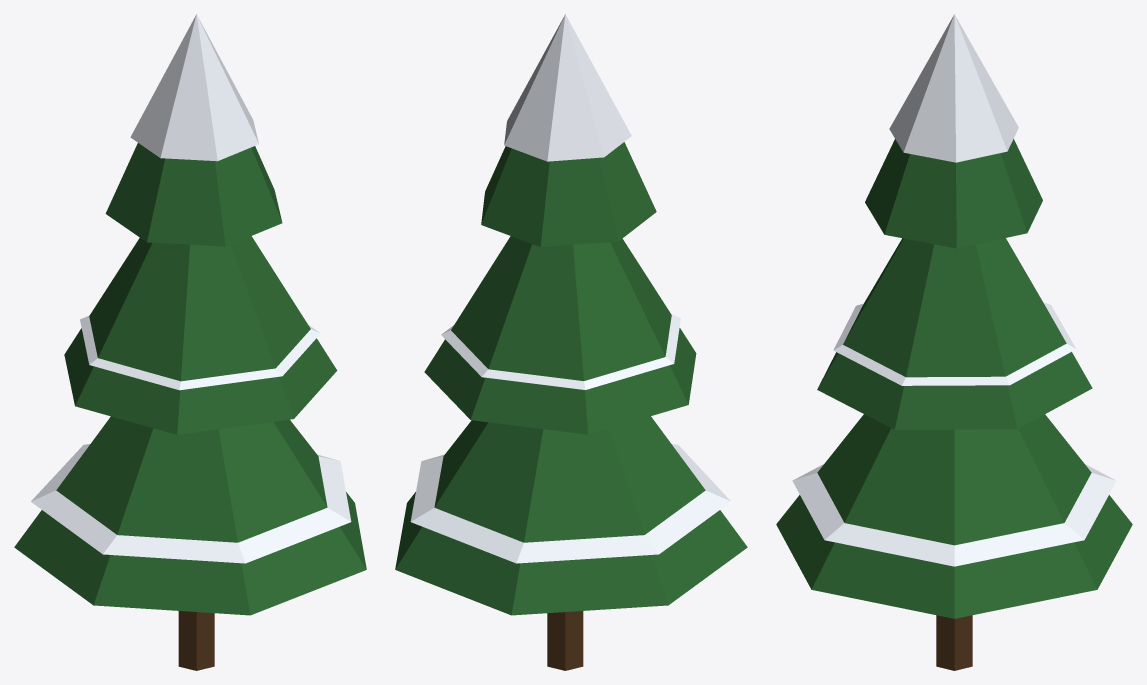
Rendered from pino_nevado.obj.
The picture shows the model from 3 angles, left to right: view 1: azimuth 30°, elevation 25°; view 2: azimuth 150°, elevation 25°; view 3: azimuth 270°, elevation 25°; orthographic projection.
Parts seen in each view (by area): view 1: pino_nevado; view 2: pino_nevado; view 3: pino_nevado.
Boxes of the visible parts, x1=… form: pino_nevado: x1=14, y1=14, x2=366, y2=670; pino_nevado: x1=395, y1=14, x2=747, y2=670; pino_nevado: x1=776, y1=14, x2=1132, y2=670.
Size of the model in its own units: 4.18 by 8.6 by 4.29.
